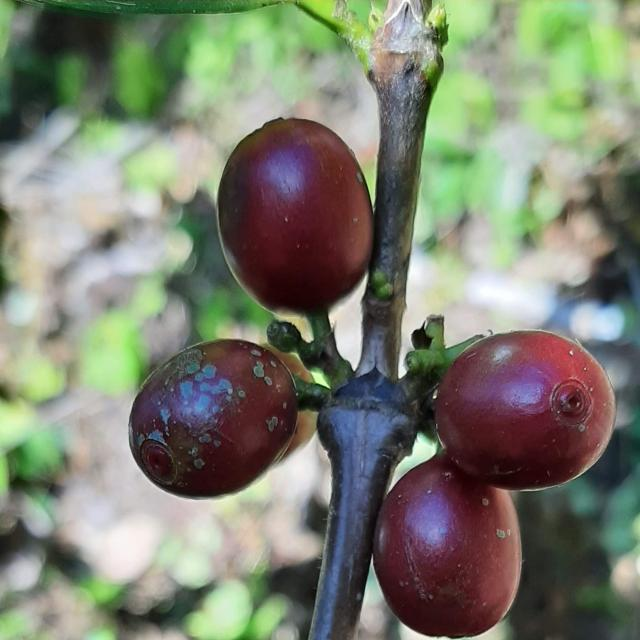red: (217, 118, 373, 312), (436, 331, 617, 491), (374, 455, 522, 639), (129, 340, 298, 499)
